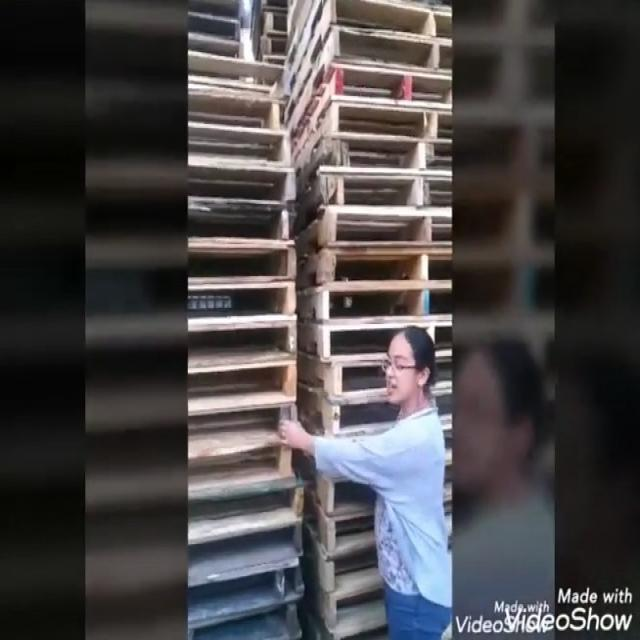Palette: (294, 0, 456, 640), (187, 3, 307, 640)
